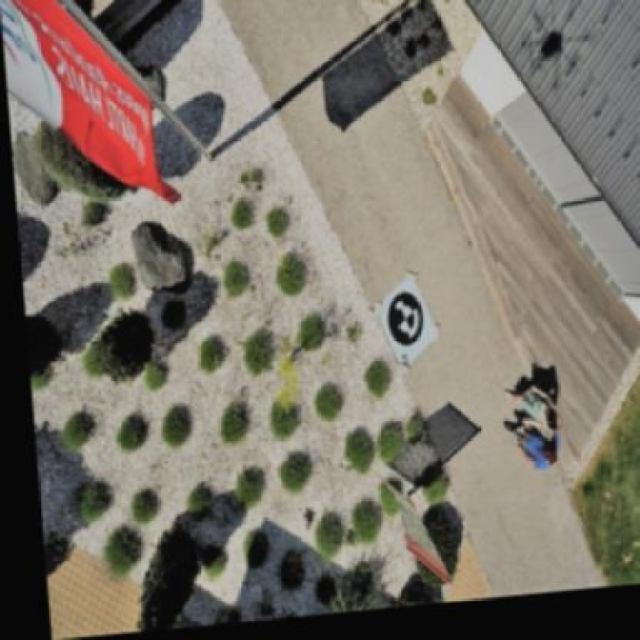Person: (494, 386, 560, 452), (498, 425, 554, 483)
